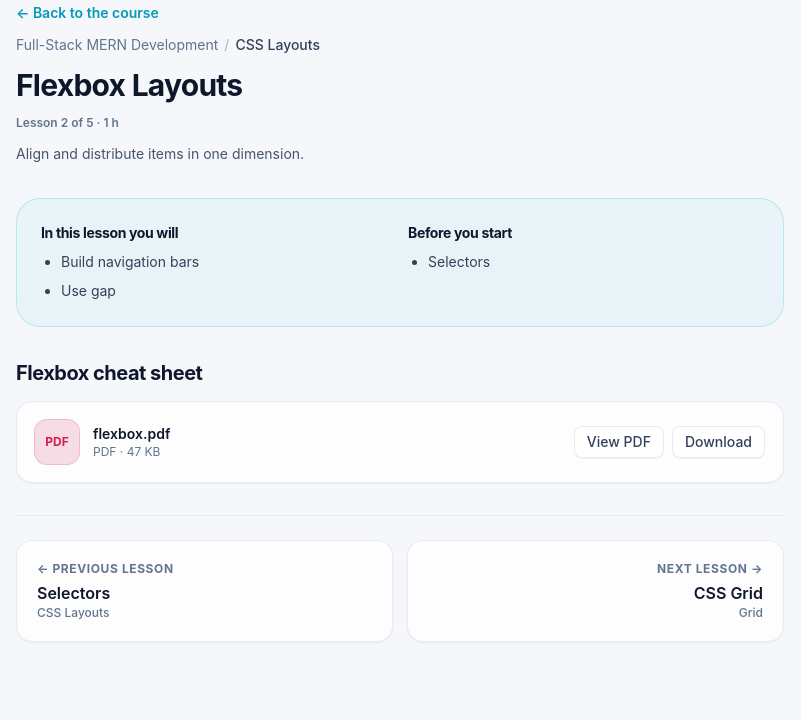
it: LessonReaderPage › shows a file error from the server
This screenshot has width=801, height=720.
Click the button "View PDF". click: (619, 442)
box: [574,426,664,458]
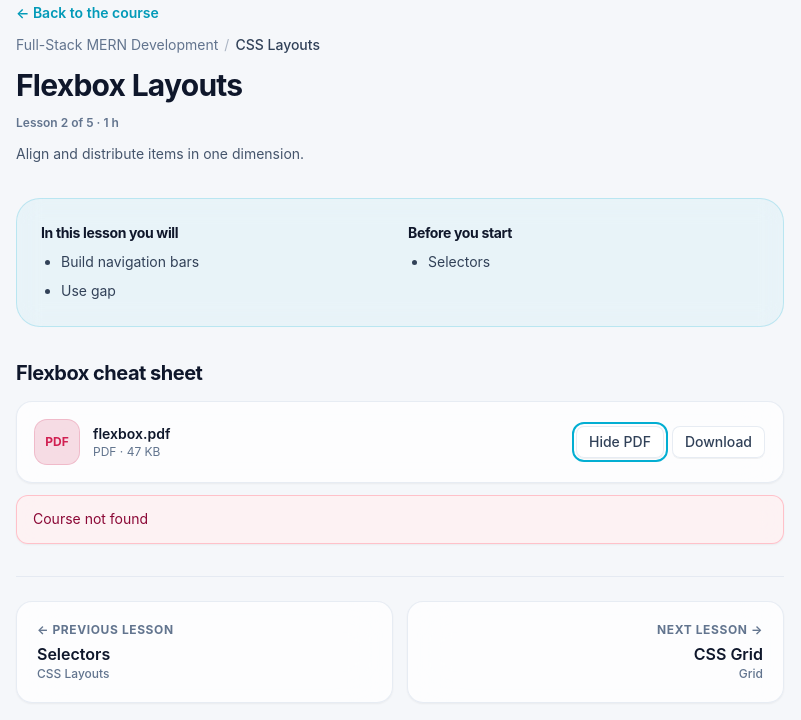
Expected: the message reads "Course not found", [33,510,148,527]
